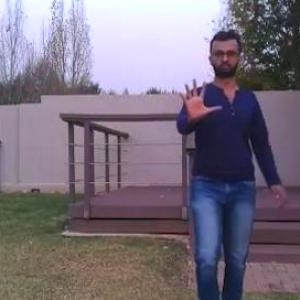follow_hand: (174, 74, 223, 120)
